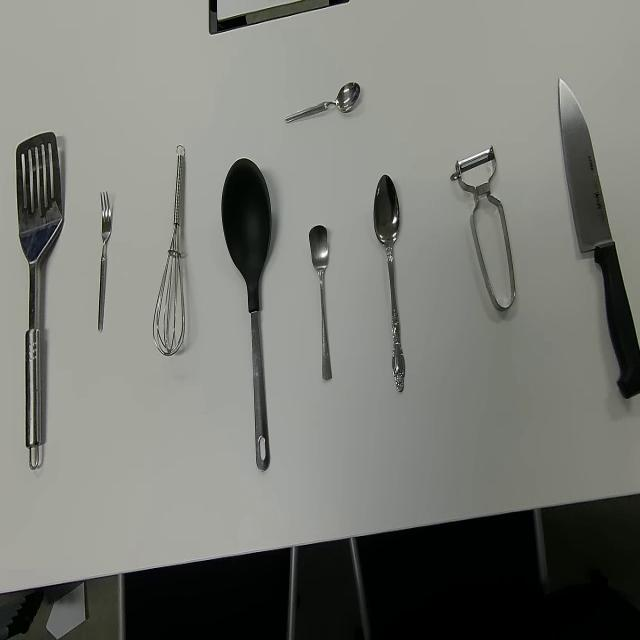Desert-Spoon: (373, 173, 406, 394)
Dinner-Fork: (98, 190, 114, 333)
Kitchen-Knife: (557, 77, 640, 401)
Peeler: (450, 145, 516, 313)
Serving-Spoon: (220, 157, 272, 473), (15, 131, 63, 472)
Tea-Spoon: (308, 223, 333, 382), (285, 80, 362, 125)
Whisk: (152, 143, 186, 357)
